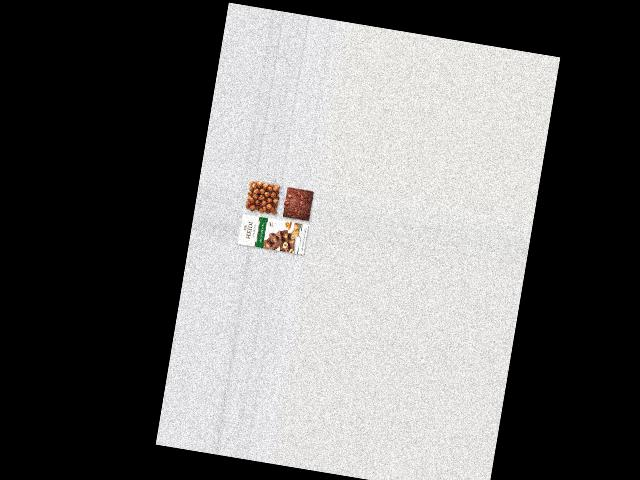chocolate: (281, 183, 315, 222)
